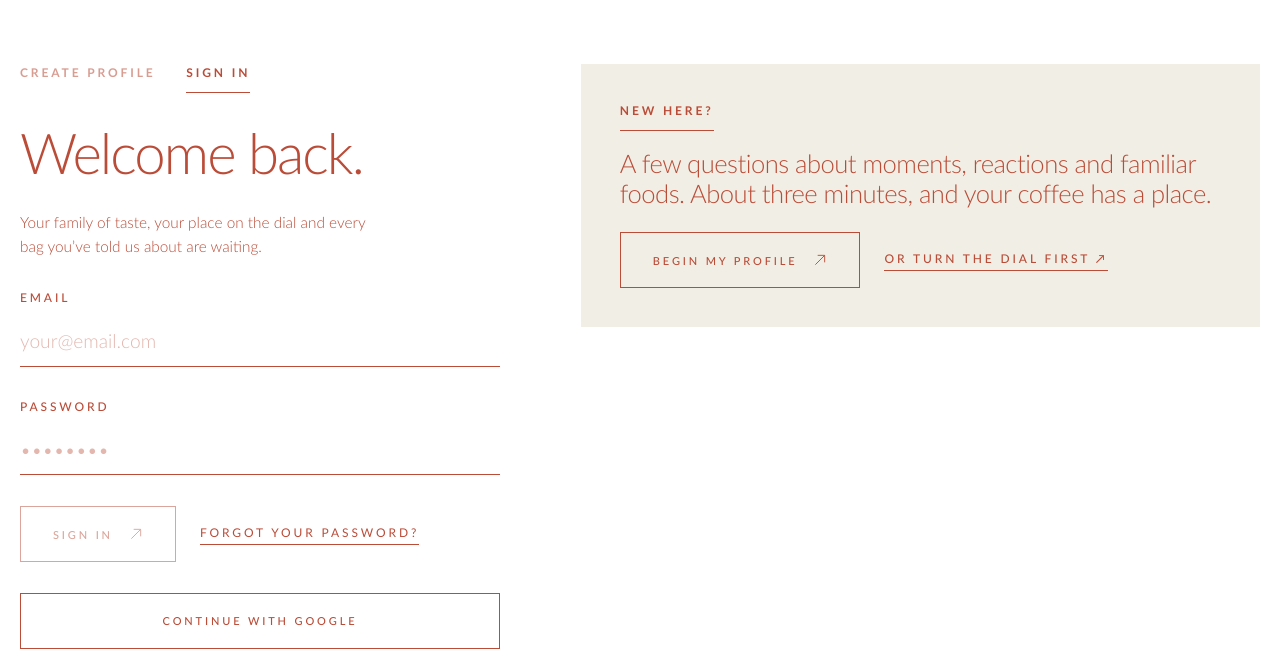
it: /sign-in › defaults to Create profile with names, and ?mode=signin selects Sign in
The width and height of the screenshot is (1280, 661).
Later steps or results of the test are not shown.
Expected: the heading reads "Welcome back.", [20,118,363,186]
Expected: the field labelled "First name" is not shown
Click the tab "Create profile" at (88, 78), box [20,64,156,93]
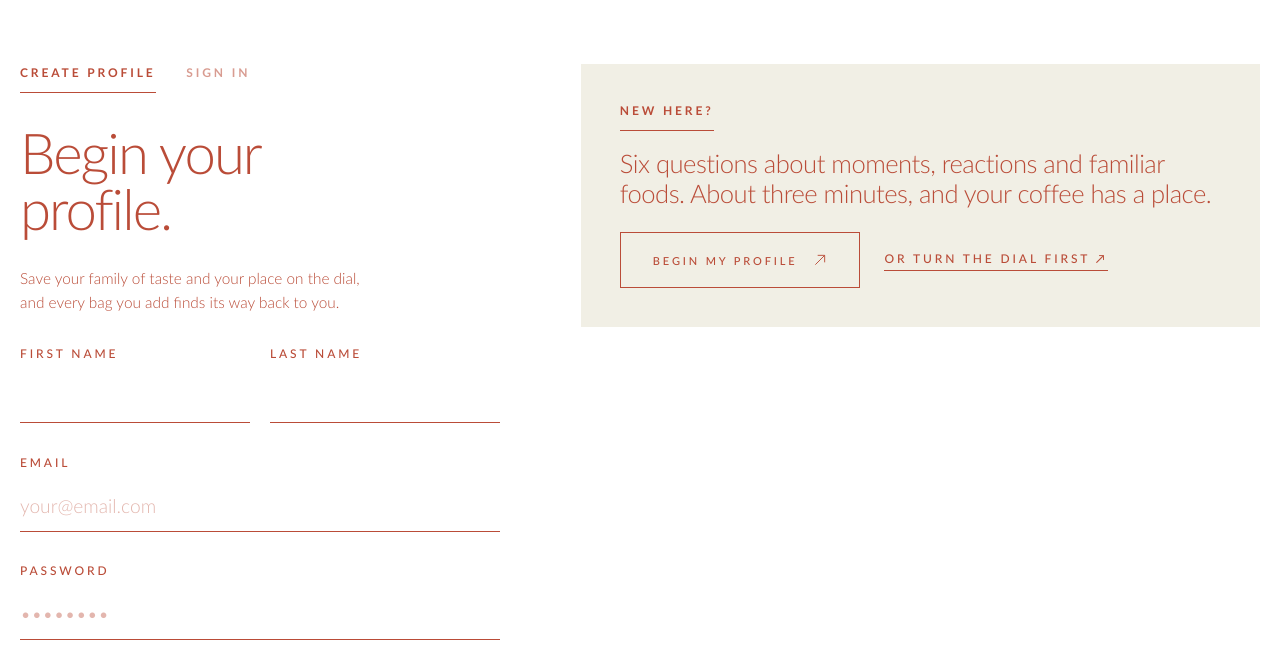
Now the field labelled "First name" is shown, box [20,373,250,423]
